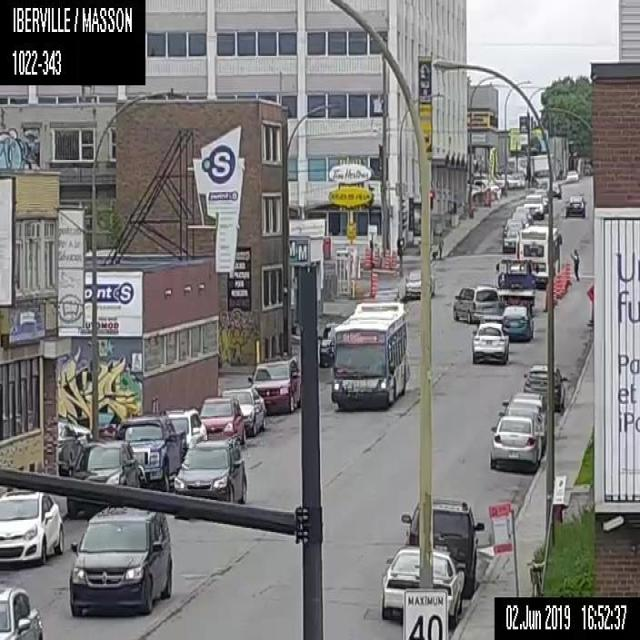bus: (329, 298, 410, 412), (516, 225, 562, 279)
construction: (586, 284, 592, 326), (369, 272, 377, 297), (565, 258, 572, 286), (551, 280, 557, 306), (555, 274, 561, 300), (383, 246, 390, 268), (372, 247, 379, 268), (390, 249, 396, 271), (364, 247, 369, 268)
pedestrian: (568, 248, 580, 283), (431, 233, 444, 260)
vehicle: (64, 496, 171, 619), (400, 497, 485, 599), (380, 544, 466, 623), (64, 440, 141, 516), (110, 414, 182, 494), (0, 487, 65, 572), (172, 439, 248, 506), (247, 356, 302, 415), (488, 412, 539, 474), (500, 388, 550, 445), (197, 396, 245, 452), (494, 255, 540, 309), (218, 387, 268, 436), (0, 582, 43, 638), (160, 406, 207, 457), (522, 365, 567, 414), (452, 283, 501, 324), (470, 317, 508, 366), (58, 417, 83, 471), (501, 304, 534, 342), (316, 319, 341, 367), (403, 268, 435, 299), (564, 190, 586, 218), (502, 224, 524, 252), (522, 192, 544, 220), (69, 421, 92, 442), (545, 180, 562, 200), (565, 169, 578, 183)
